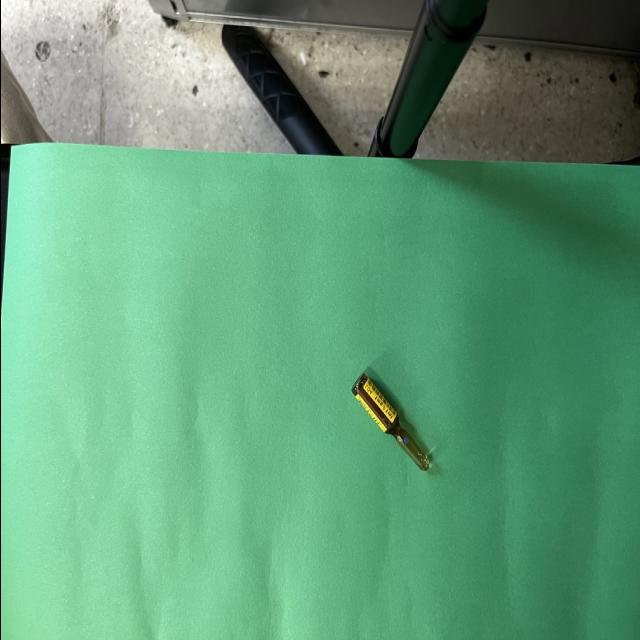Ampoules: (350, 373, 428, 471)
